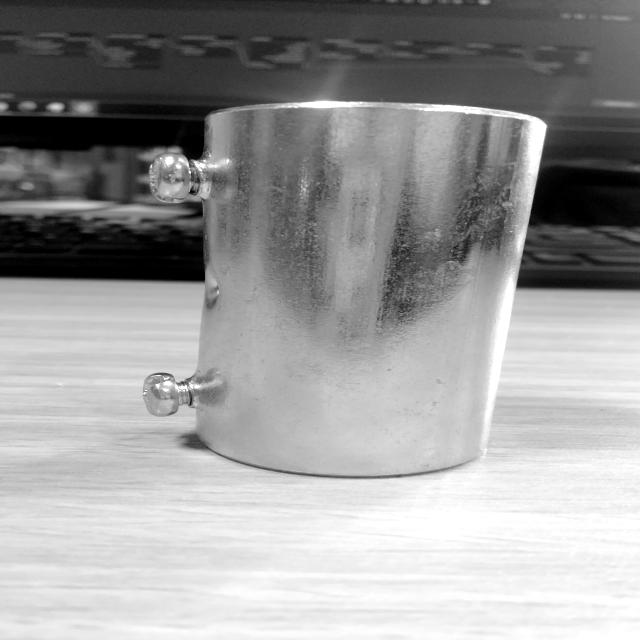Co_Nho: (137, 96, 549, 483)
